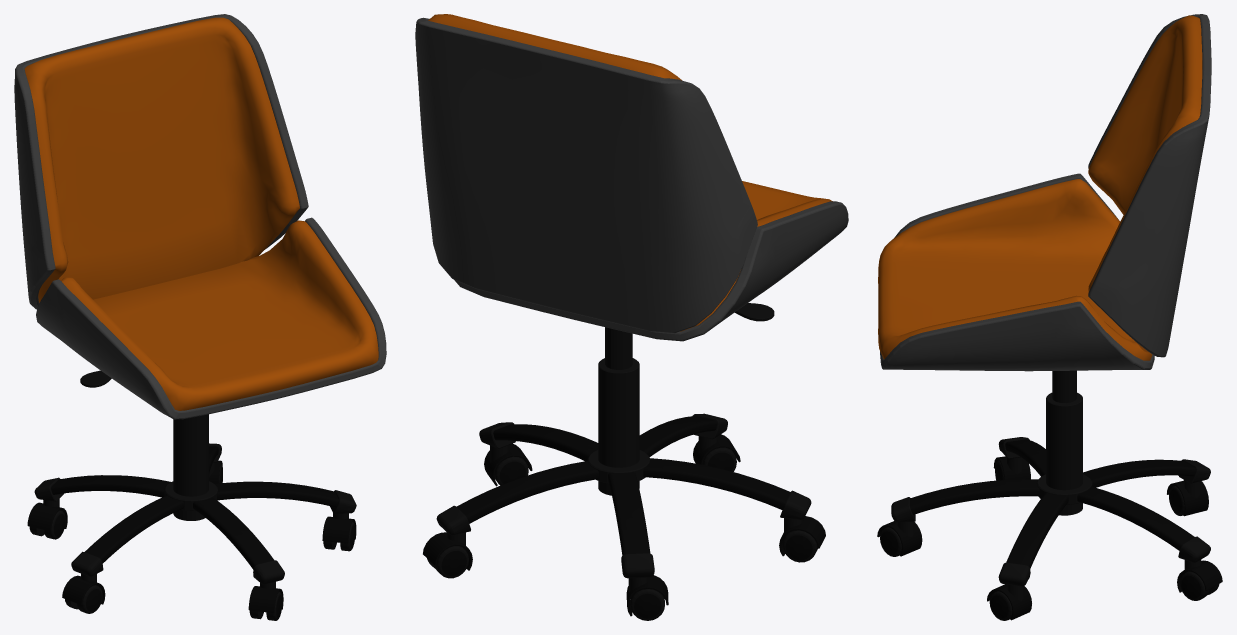
Rendered from chair.FBX.
The picture shows the model from 3 angles, left to right: view 1: azimuth 30°, elevation 25°; view 2: azimuth 150°, elevation 25°; view 3: azimuth 270°, elevation 25°; orthographic projection. The views are drawn at different scales.
Parts seen in each view (by area): view 1: 01c6 cadei; view 2: 01c6 cadei; view 3: 01c6 cadei.
Boxes of the visible parts, x1=… form: 01c6 cadei: x1=14, y1=14, x2=386, y2=620; 01c6 cadei: x1=415, y1=14, x2=848, y2=620; 01c6 cadei: x1=877, y1=14, x2=1222, y2=620.
Bounding box in the file's own units: 23.68 × 36.96 × 23.47.
